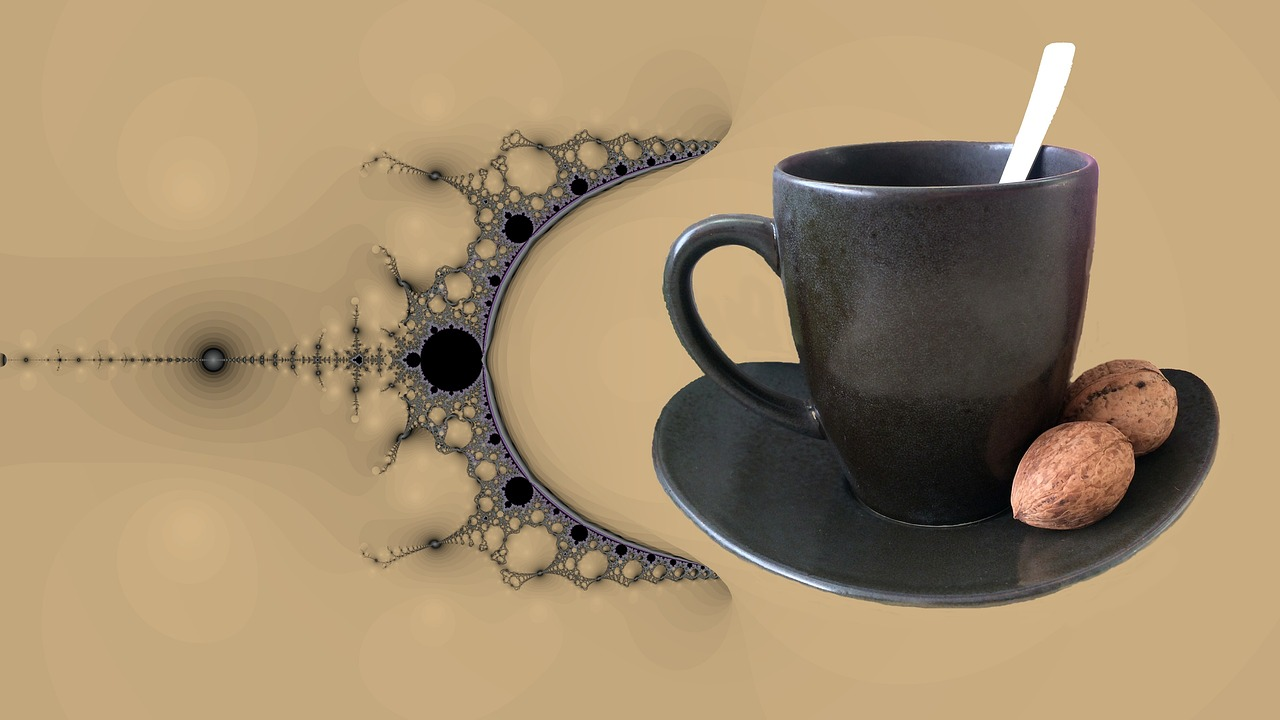mug: (654, 131, 1129, 610)
